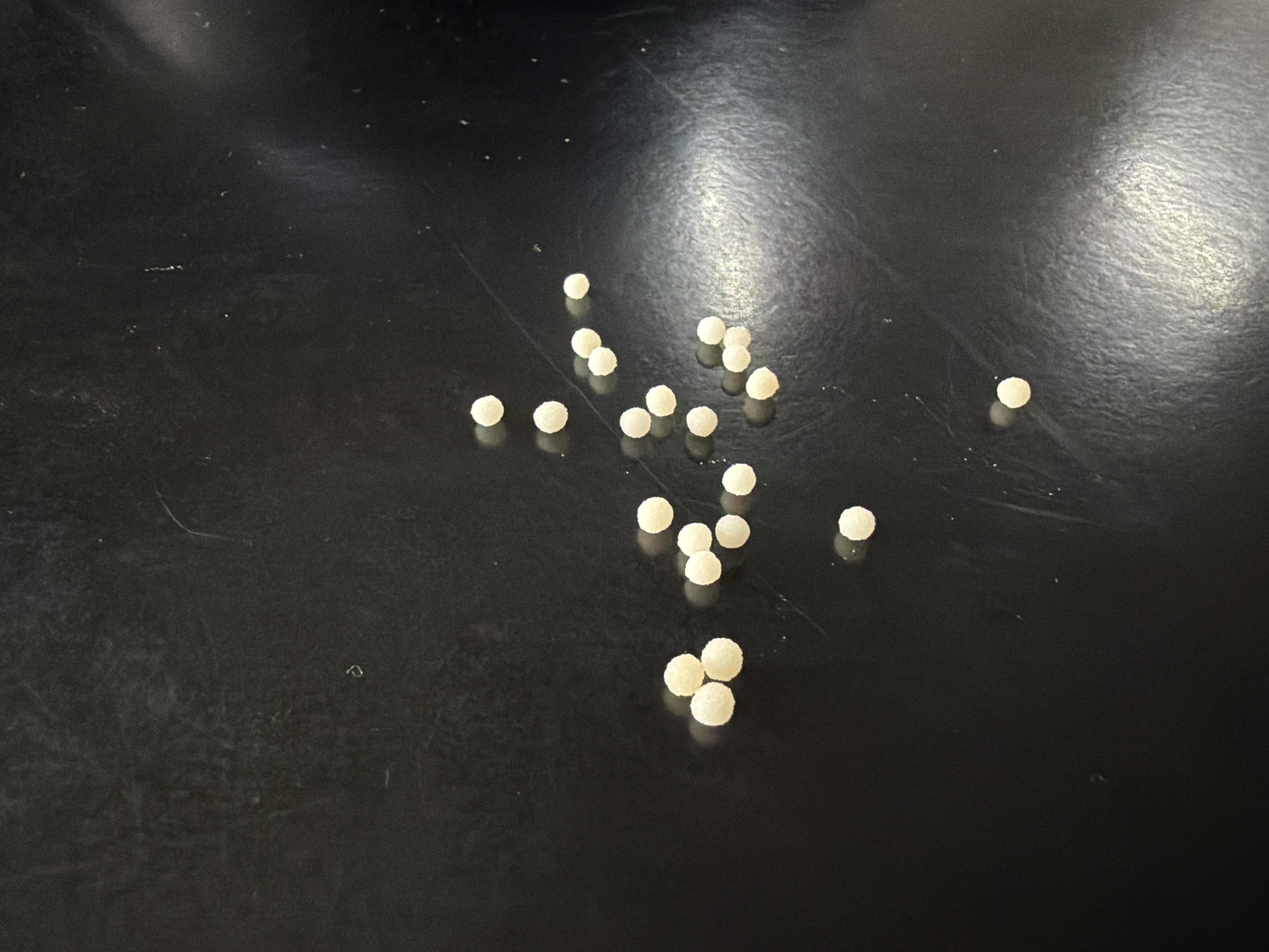pill: (690, 682, 735, 726), (700, 638, 743, 681), (663, 654, 705, 697), (637, 496, 673, 534), (685, 550, 721, 586), (838, 506, 875, 541), (714, 514, 750, 548), (678, 523, 712, 557), (533, 401, 568, 434), (746, 367, 779, 400), (997, 377, 1031, 409), (722, 464, 756, 496), (619, 407, 651, 439), (471, 396, 503, 427), (686, 406, 718, 437), (646, 385, 676, 416), (571, 328, 601, 359), (588, 346, 617, 376), (697, 316, 726, 345), (722, 345, 751, 373), (563, 273, 589, 299), (722, 326, 751, 348)
